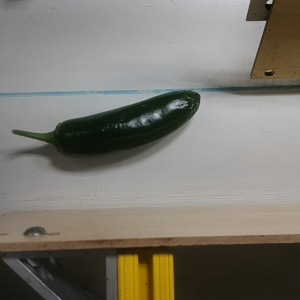Cut Point: (43, 118, 74, 159)
